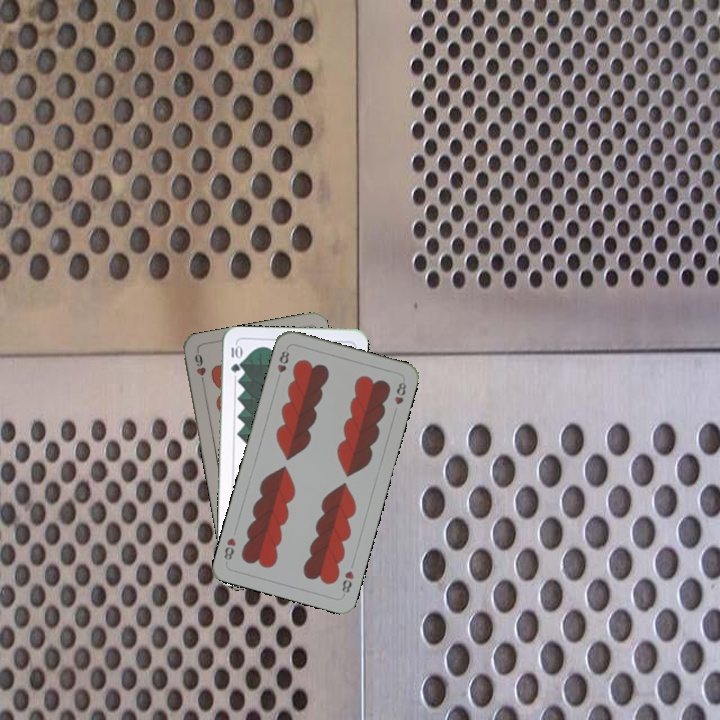G10: (227, 341, 242, 375)
H8: (273, 344, 292, 375), (338, 567, 357, 598)
H9: (190, 348, 209, 388)
